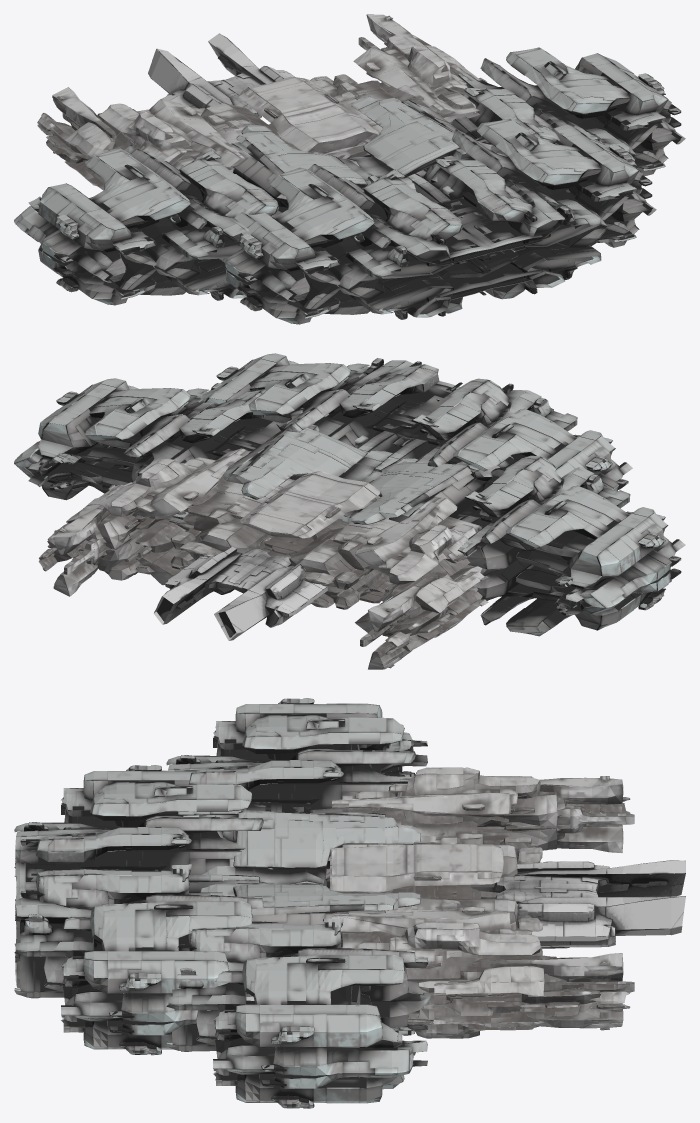
File: BATTLESHIP_001.fbx
3 renders of one model, top to bottom at view 1: azimuth 30°, elevation 25°; view 2: azimuth 150°, elevation 25°; view 3: azimuth 270°, elevation 25°, orthographic. The views are drawn at different scales.
Parts seen in each view (by area): view 1: BATTLESHIP_001; view 2: BATTLESHIP_001; view 3: BATTLESHIP_001.
Part boxes in pixels (x1=…): BATTLESHIP_001: x1=14, y1=14, x2=685, y2=324; BATTLESHIP_001: x1=14, y1=353, x2=685, y2=669; BATTLESHIP_001: x1=14, y1=698, x2=685, y2=1108.
Bounding box in the file's own units: 212 × 36.2 × 172.
